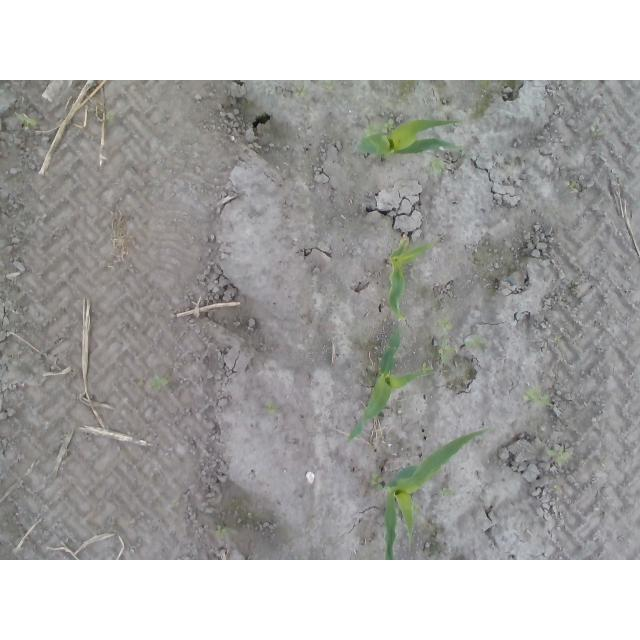Maize: (383, 428, 489, 561), (347, 331, 436, 444), (358, 117, 458, 159), (386, 239, 436, 317)
Weeds: (436, 320, 452, 364), (541, 447, 571, 464), (523, 387, 550, 405), (425, 156, 445, 177), (469, 335, 490, 353), (150, 375, 167, 392), (562, 179, 579, 193), (265, 398, 277, 414), (371, 473, 384, 487), (215, 524, 225, 537), (421, 362, 431, 373), (296, 85, 305, 96), (440, 488, 451, 497)
